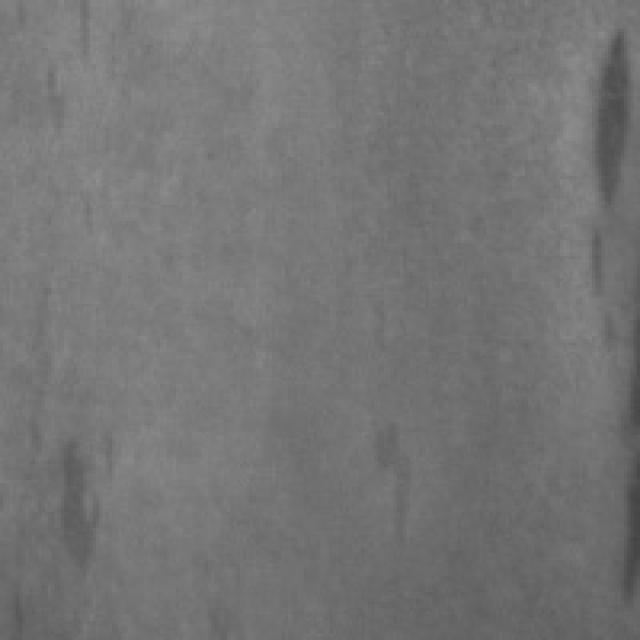inclusion: (560, 16, 634, 349), (32, 419, 118, 579), (358, 413, 429, 534), (29, 51, 83, 138)
